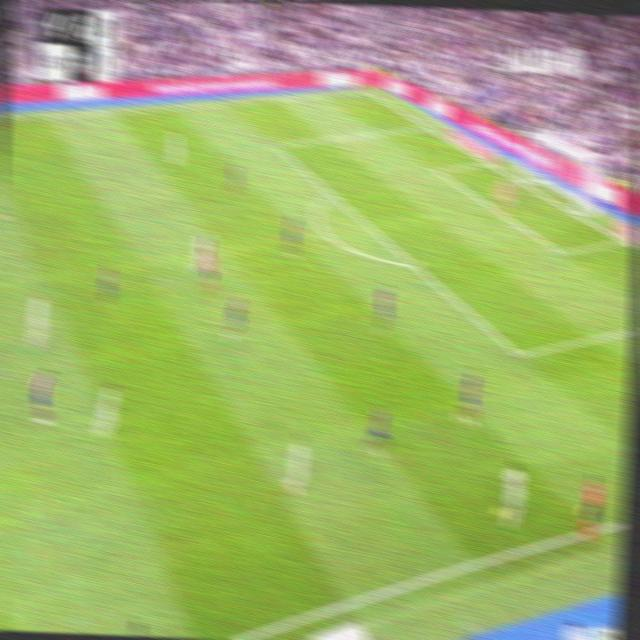bigarea_bottom_inner: (509, 340, 527, 366)
bigarea_top_inner: (267, 135, 283, 153)
bigarea_top_outter: (419, 118, 432, 131)
bottom_arc_area_intersection: (403, 254, 421, 273)
corner: (358, 82, 374, 95)
smallarea_bottom_inner: (551, 242, 567, 261)
smallarea_top_inner: (432, 165, 442, 175)
top_arc_area_intersection: (323, 183, 336, 199)
